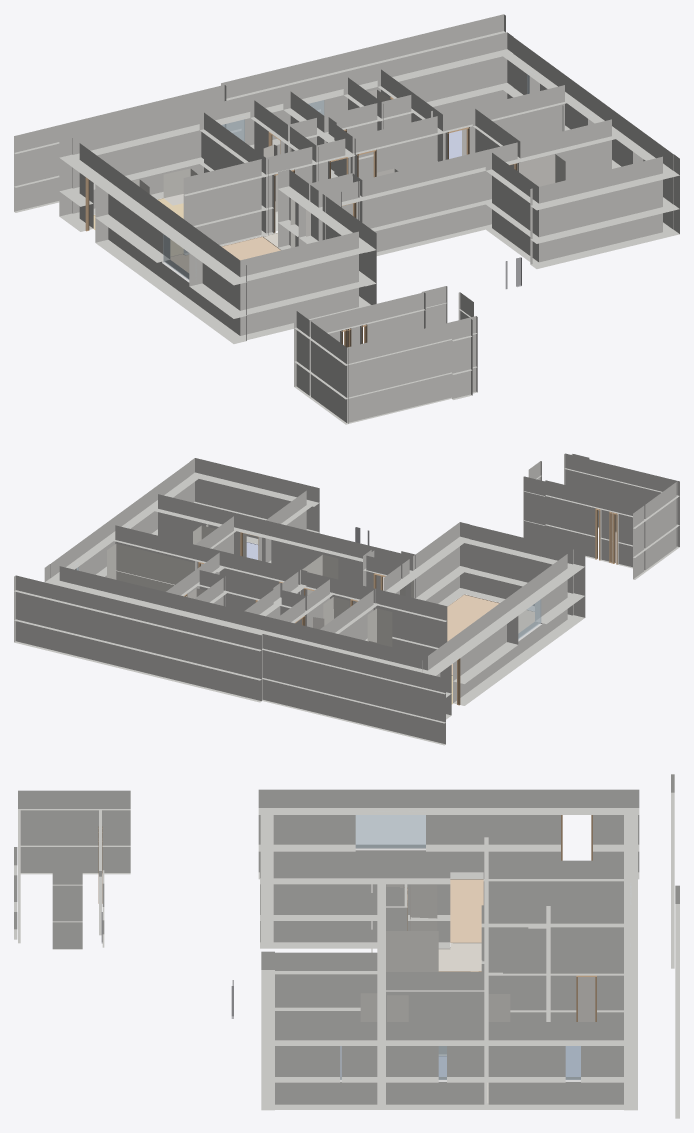
3 views of the same model, one above another, from view 1: azimuth 30°, elevation 25°; view 2: azimuth 150°, elevation 25°; view 3: azimuth 270°, elevation 25° (orthographic). The views are drawn at different scales.
Visible parts, largest first — view 1: walls, furniture_12_closet, floor_1_Living_Room, window_9, furniture_19_sink; view 2: walls, furniture_7_closet, floor_1_Living_Room, furniture_5_closet, furniture_8_closet, window_9; view 3: walls, window_9, furniture_8_closet, floor_1_Living_Room, floor_2_Entry, furniture_9_closet, furniture_0_closet, furniture_7_closet, furniture_10_closet, window_10, furniture_12_closet.
Boxes of the visible parts, bbox=[...] form: walls: bbox=[14, 14, 679, 424]; furniture_12_closet: bbox=[519, 154, 565, 186]; floor_1_Living_Room: bbox=[170, 236, 280, 272]; window_9: bbox=[163, 234, 189, 279]; furniture_19_sink: bbox=[163, 168, 197, 205]; walls: bbox=[14, 453, 679, 745]; furniture_7_closet: bbox=[107, 543, 194, 591]; floor_1_Living_Room: bbox=[447, 594, 534, 675]; furniture_5_closet: bbox=[367, 608, 392, 646]; furniture_8_closet: bbox=[302, 554, 338, 595]; window_9: bbox=[518, 599, 541, 639]; walls: bbox=[14, 774, 679, 1118]; window_9: bbox=[355, 815, 425, 848]; furniture_8_closet: bbox=[386, 931, 438, 971]; floor_1_Living_Room: bbox=[450, 879, 483, 942]; floor_2_Entry: bbox=[438, 942, 481, 971]; furniture_9_closet: bbox=[410, 884, 437, 930]; furniture_0_closet: bbox=[578, 977, 595, 1021]; furniture_7_closet: bbox=[487, 994, 510, 1103]; furniture_10_closet: bbox=[387, 995, 408, 1021]; window_10: bbox=[565, 1046, 580, 1079]; furniture_12_closet: bbox=[360, 993, 377, 1021].
Size of the model in its own units: 18.4 by 2.72 by 19.76.
